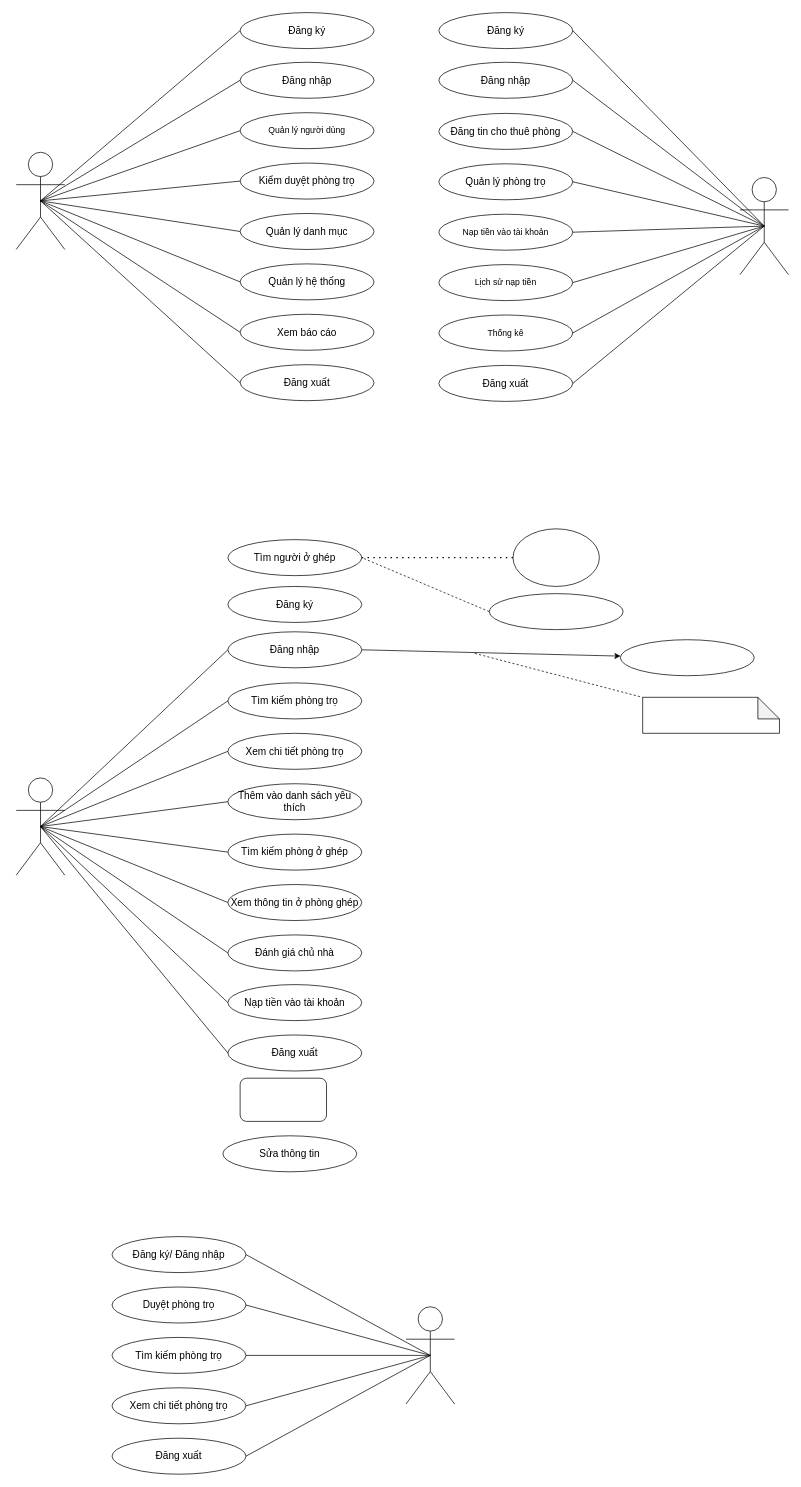
This 801x1487 diagram has some shape labels left out. The centre of each missing label's shape, as x and y in pixels:
Chủ trọ: point (764, 226)
Cập nhật trạng thía đăng ký ở ghép: point (556, 611)
Khách: point (430, 1355)
Lấy lại mật khẩu: point (687, 657)
Người thuê trọ: point (40, 826)
Quên mật khẩu: point (710, 715)
Quản trị viên: point (40, 200)
Đăng ký ở ghép: point (283, 1099)
Đăng tìm người ở ghép: point (555, 557)
